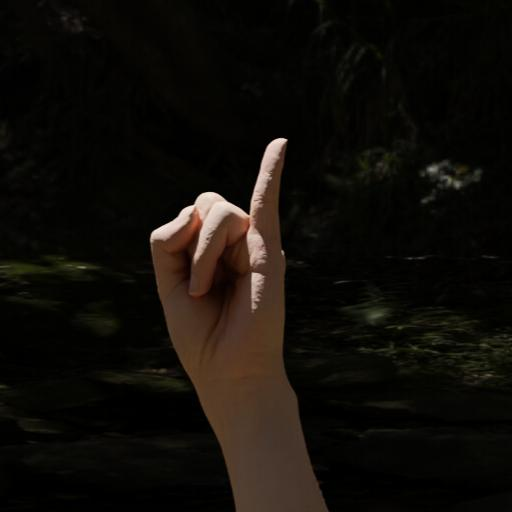I: (148, 136, 291, 370)
